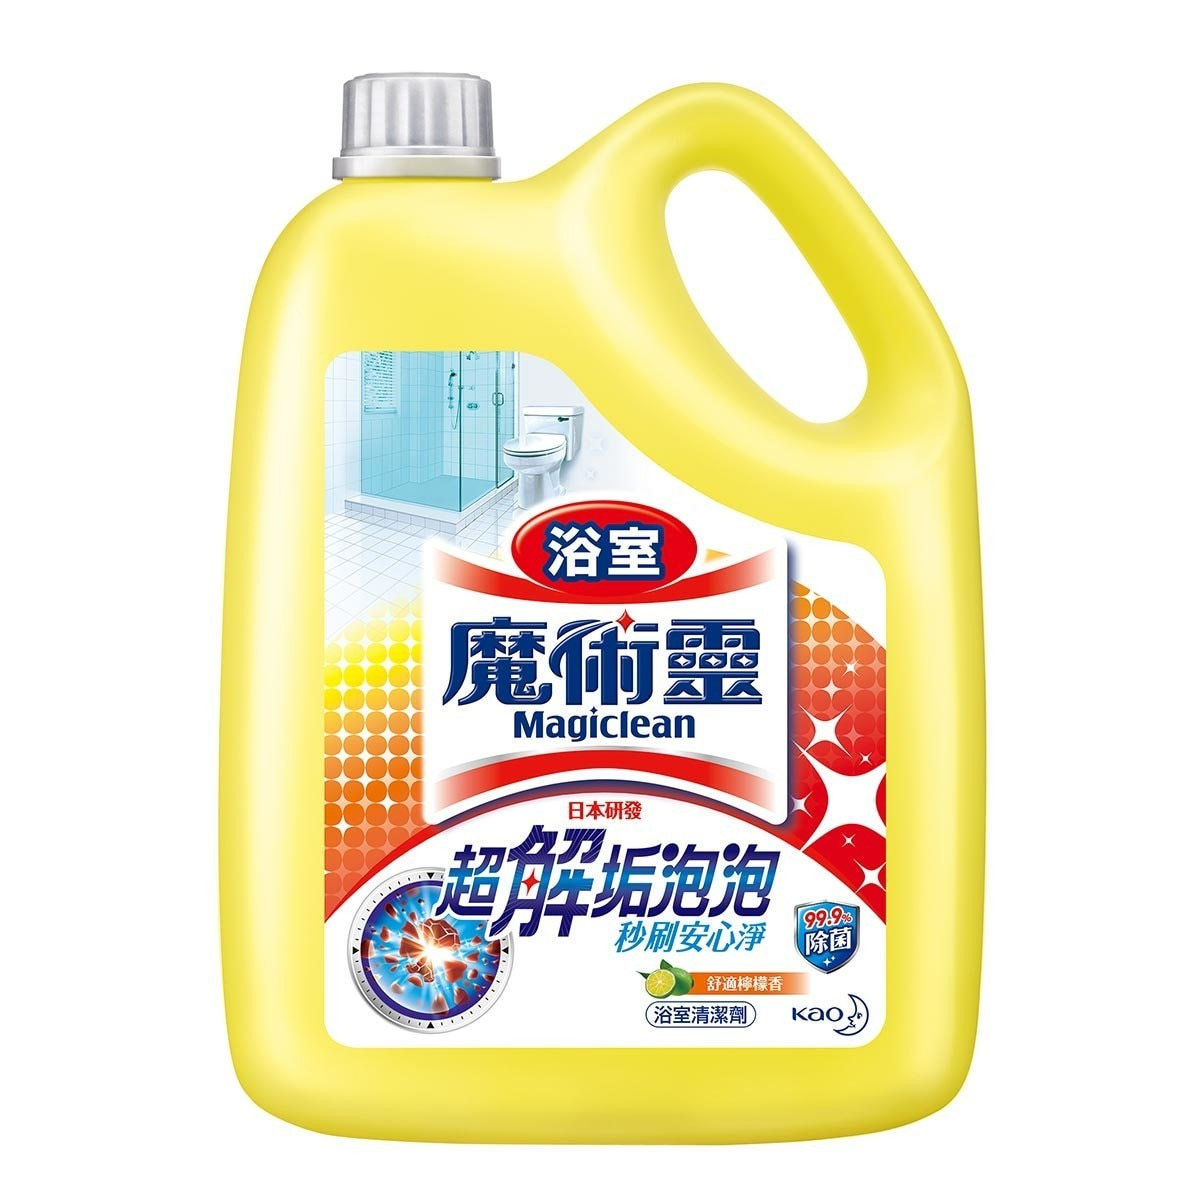cleaner: (210, 55, 1014, 1153)
